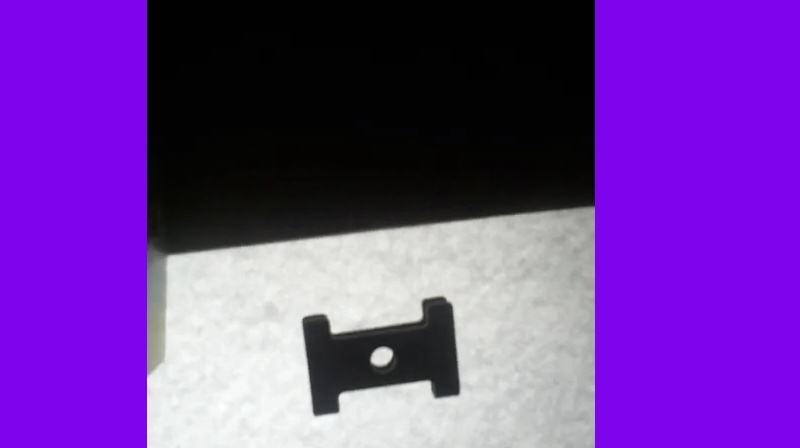O002: (298, 296, 463, 421)
